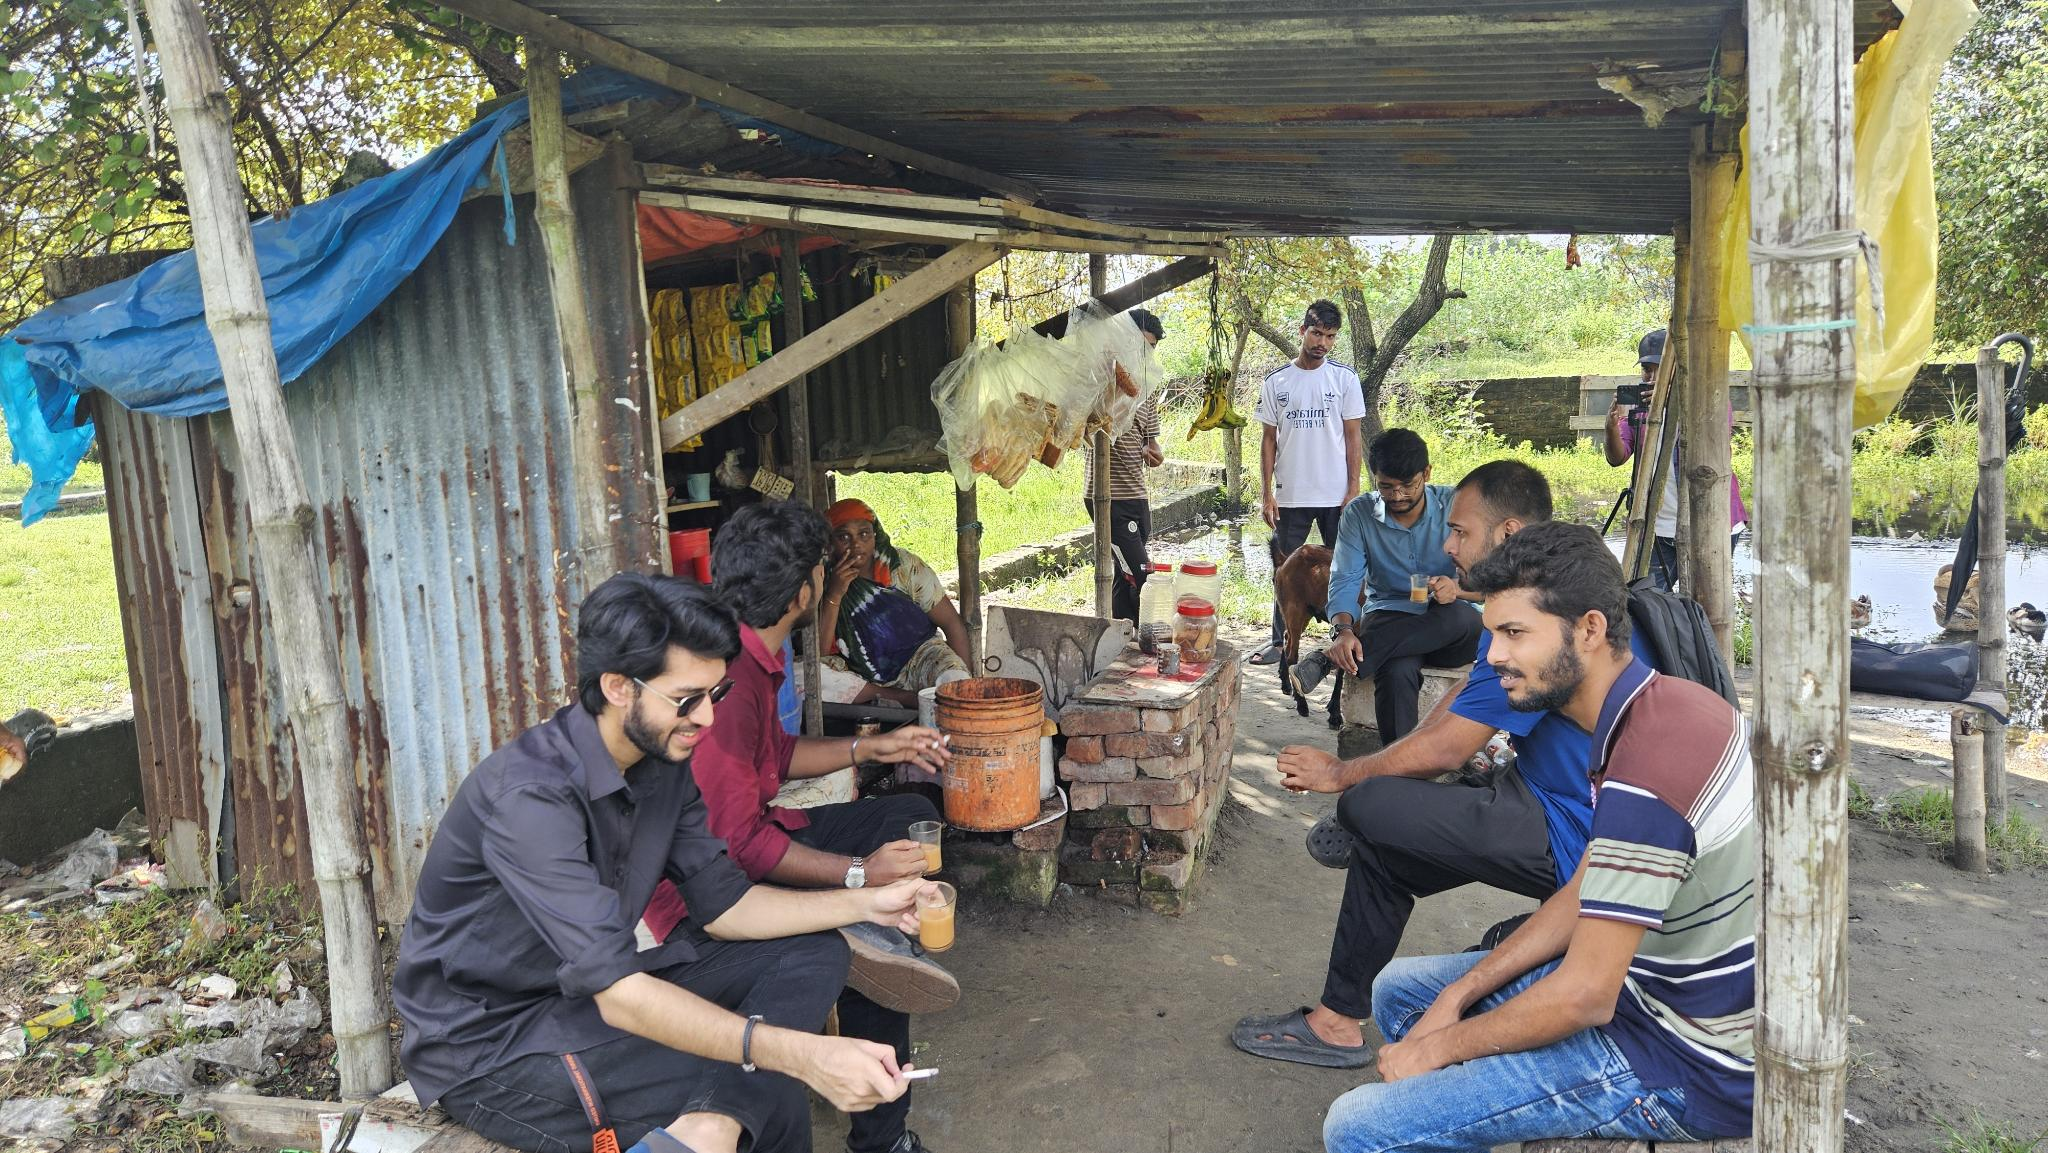cigarette: (897, 1063, 944, 1084), (928, 731, 954, 754)
nonSmoker: (1322, 522, 1764, 1153), (1232, 456, 1589, 1066), (1291, 425, 1477, 737), (1249, 301, 1366, 664), (821, 496, 971, 707)
smoker: (395, 574, 965, 1153), (716, 506, 964, 1153)
